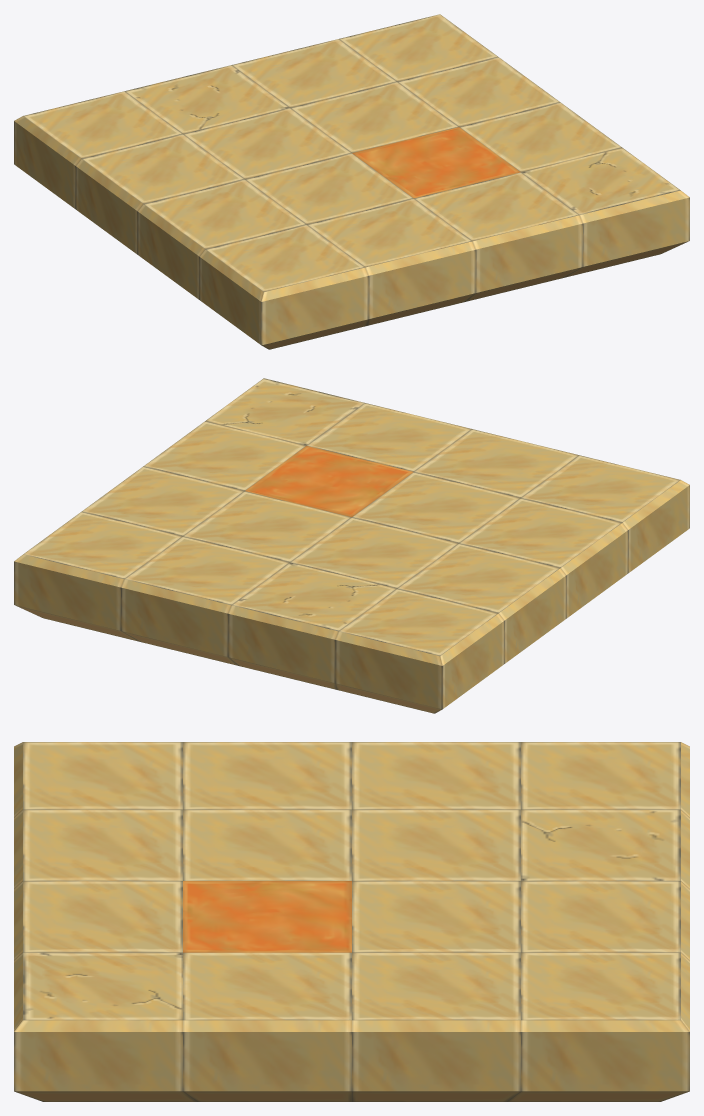
File: platform1.fbx
3 renders of one model, top to bottom at view 1: azimuth 30°, elevation 25°; view 2: azimuth 150°, elevation 25°; view 3: azimuth 270°, elevation 25°, orthographic. The views are drawn at different scales.
Parts seen in each view (by area): view 1: Platform1; view 2: Platform1; view 3: Platform1.
Boxes of the visible parts, <box> form: Platform1: <box>14,14,689,349</box>; Platform1: <box>14,378,689,713</box>; Platform1: <box>14,742,689,1101</box>.
Size of the model in its own units: 400 by 58.9 by 400.
1 material, 1 textured.
